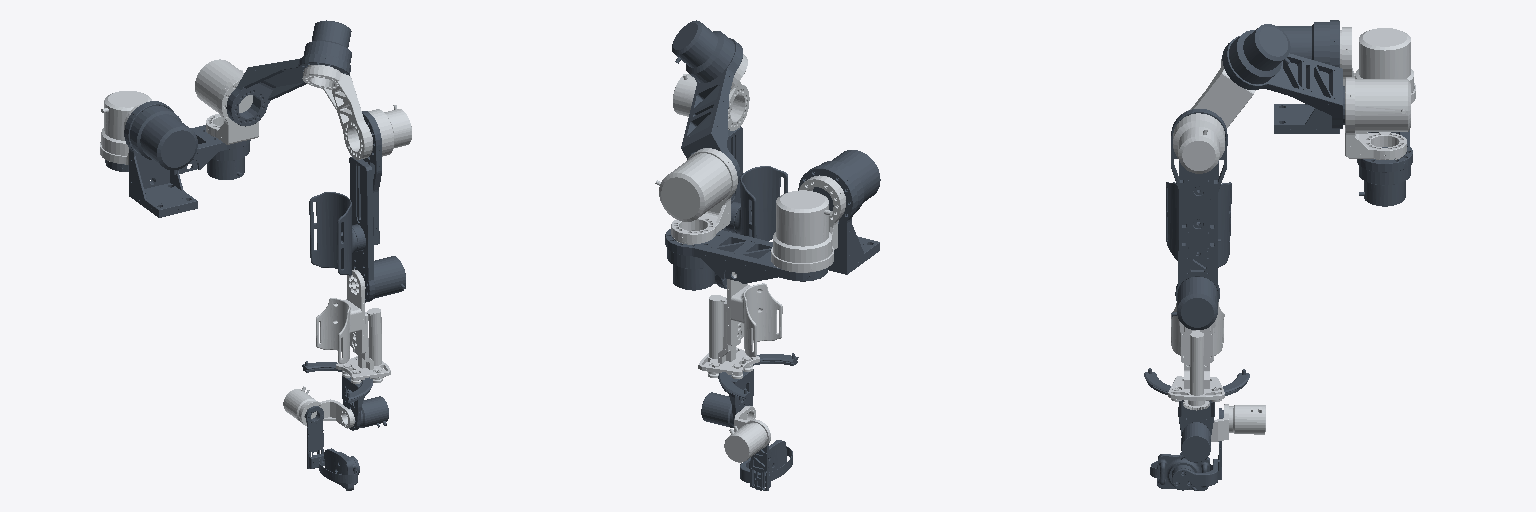
The robot description file, URDF, robot "robot_urdf":
<?xml version="1.0" encoding="utf-8"?>
<robot name="robot_urdf">

  <!-- ===== 材质定义 ===== -->
  <material name="dark_graphite">
    <color rgba="0.36 0.40 0.45 1.0" />
  </material>

  <material name="light_mist">
    <color rgba="0.82 0.84 0.86 1.0" />
  </material>

  <!-- ===== world ===== -->
  <link name="world" />

  <joint name="world_to_base_link" type="fixed">
    <parent link="world" />
    <child link="base_link" />
    <origin xyz="0 0 0" rpy="1.5708 0 0" />
  </joint>

  <!-- ===== base ===== -->
  <link name="base_link">
    <inertial>
      <origin xyz="6.92226091852932E-06 -0.0238445782558473 0.0400185415811058" rpy="0 0 0" />
      <mass value="2.0518821290605" />
      <inertia
        ixx="0.0033819502523036"
        ixy="-6.94931922672838E-07"
        ixz="3.13273230530948E-07"
        iyy="0.0025562496259904"
        iyz="0.000421721476417986"
        izz="0.00278965644158957" />
    </inertial>
    <visual>
      <geometry>
        <mesh filename="package://robot_urdf/meshes/base_link.STL" />
      </geometry>
      <material name="dark_graphite" />
    </visual>
  </link>

  <!-- ===== link1 ===== -->
  <link name="link1">
    <inertial>
      <origin xyz="0.0269401262052741 5.38039642751335E-05 -0.0660125281859969" rpy="0 0 0" />
      <mass value="1.76165866952677" />
      <inertia
        ixx="0.0017501795271766"
        ixy="-7.55840336410742E-06"
        ixz="0.000198005777225722"
        iyy="0.0024051054884993"
        iyz="6.50219652096249E-06"
        izz="0.0022439897149415" />
    </inertial>
    <visual>
      <geometry>
        <mesh filename="package://robot_urdf/meshes/link1.STL" />
      </geometry>
      <material name="light_mist" />
    </visual>
  </link>

  <joint name="joint1" type="revolute">
    <parent link="base_link" />
    <child link="link1" />
    <origin xyz="0 0 0" rpy="0 0 -1.5708" />
    <axis xyz="0 0 1" />
    <limit lower="-3.1416" upper="3.1416" effort="50" velocity="2" />
  </joint>

  <!-- ===== link2 ===== -->
  <link name="link2">
    <inertial>
      <origin xyz="0.151634578312904 -8.90041965362631E-05 -0.0351657438755136" rpy="0 0 0" />
      <mass value="1.59468357316661" />
      <inertia
        ixx="0.00122748215988071"
        ixy="1.05445508231499E-05"
        ixz="2.42762234655553E-05"
        iyy="0.00318848384426838"
        iyz="-3.04528630023397E-07"
        izz="0.00343010818845142" />
    </inertial>
    <visual>
      <geometry>
        <mesh filename="package://robot_urdf/meshes/link2.STL" />
      </geometry>
      <material name="dark_graphite" />
    </visual>
  </link>

  <joint name="joint2" type="revolute">
    <parent link="link1" />
    <child link="link2" />
    <origin xyz="0.0715 0 -0.0735" rpy="-1.5708 0 1.5708" />
    <axis xyz="0 0 1" />
    <limit lower="-3.1416" upper="3.1416" effort="50" velocity="2" />
  </joint>

  <!-- ===== link3 ===== -->
  <link name="link3">
    <inertial>
      <origin xyz="0.012180710346166 -2.92520324832179E-06 -0.07075437532951" rpy="0 0 0" />
      <mass value="1.50899705647033" />
      <inertia
        ixx="0.00143711695344338"
        ixy="-1.67872696840416E-06"
        ixz="0.000133663210207573"
        iyy="0.00184234966696005"
        iyz="9.43531767749633E-07"
        izz="0.00163987162857285" />
    </inertial>
    <visual>
      <geometry>
        <mesh filename="package://robot_urdf/meshes/link3.STL" />
      </geometry>
      <material name="light_mist" />
    </visual>
  </link>

  <joint name="joint3" type="revolute">
    <parent link="link2" />
    <child link="link3" />
    <origin xyz="0.19 0 -0.01" rpy="-3.1416 0 -1.5708" />
    <axis xyz="0 0 1" />
    <limit lower="-3.1416" upper="3.1416" effort="50" velocity="2" />
  </joint>

  <!-- ===== link4 ===== -->
  <link name="link4">
    <inertial>
      <origin xyz="0.126329248953276 0.00012705226853052 -0.110942211504875" rpy="0 0 0" />
      <mass value="1.52002907684628" />
      <inertia
        ixx="0.00237136970226934"
        ixy="-1.07779733062195E-05"
        ixz="0.001105445795461"
        iyy="0.00336785465518477"
        iyz="1.35189780049483E-05"
        izz="0.00217739308420728" />
    </inertial>
    <visual>
      <geometry>
        <mesh filename="package://robot_urdf/meshes/link4.STL" />
      </geometry>
      <material name="dark_graphite" />
    </visual>
  </link>

  <joint name="joint4" type="revolute">
    <parent link="link3" />
    <child link="link4" />
    <origin xyz="0.0545 0 -0.08" rpy="1.5708 0.95993 -1.5708" />
    <axis xyz="0 0 1" />
    <limit lower="-3.1416" upper="3.1416" effort="50" velocity="2" />
  </joint>

  <!-- ===== link5 ===== -->
  <link name="link5">
    <inertial>
      <origin xyz="0.103543803753986 0.00128110258418068 0.0700286344319139" rpy="0 0 0" />
      <mass value="1.33531733905559" />
      <inertia
        ixx="0.00132943314339522"
        ixy="-5.79676814963843E-06"
        ixz="-0.000370522818090566"
        iyy="0.00173625912381175"
        iyz="-5.32345339616087E-06"
        izz="0.00133982685184081" />
    </inertial>
    <visual>
      <geometry>
        <mesh filename="package://robot_urdf/meshes/link5.STL" />
      </geometry>
      <material name="light_mist" />
    </visual>
  </link>

  <joint name="joint5" type="revolute">
    <parent link="link4" />
    <child link="link5" />
    <origin xyz="0.12776 0 -0.15315" rpy="-2.1198 0.29022 1.3975" />
    <axis xyz="0 0 -1" />
    <limit lower="-3.1416" upper="3.1416" effort="50" velocity="2" />
  </joint>

  <!-- ===== link6 ===== -->
  <link name="link6">
    <inertial>
      <origin xyz="0.205479054239901 4.65480725229672E-05 0.0110413985610982" rpy="0 0 0" />
      <mass value="1.57403690632572" />
      <inertia
        ixx="0.000916731067277579"
        ixy="2.43668656587855E-06"
        ixz="2.17360750661418E-06"
        iyy="0.00339817530099989"
        iyz="2.76707235474586E-06"
        izz="0.00357156733612234" />
    </inertial>
    <visual>
      <geometry>
        <mesh filename="package://robot_urdf/meshes/link6.STL" />
      </geometry>
      <material name="dark_graphite" />
    </visual>
  </link>

  <joint name="joint6" type="revolute">
    <parent link="link5" />
    <child link="link6" />
    <origin xyz="0.092667 0.0011397 0.094019" rpy="-2.3595 -0.78866 -0.93839" />
    <axis xyz="0 0 -1" />
    <limit lower="-3.1416" upper="3.1416" effort="50" velocity="2" />
  </joint>

  <!-- ===== link7 ===== -->
  <link name="link7">
    <inertial>
      <origin xyz="0.100709801211644 -5.75713818709578E-06 0.000884917898414883" rpy="0 0 0" />
      <mass value="0.53341444148306" />
      <inertia
        ixx="0.000158952234576008"
        ixy="-4.35834625839253E-07"
        ixz="8.40887140693924E-06"
        iyy="0.000531608219607252"
        iyz="-3.44191354452961E-08"
        izz="0.000595315890414363" />
    </inertial>
    <visual>
      <geometry>
        <mesh filename="package://robot_urdf/meshes/link7.STL" />
      </geometry>
      <material name="light_mist" />
    </visual>
  </link>

  <joint name="joint7" type="revolute">
    <parent link="link6" />
    <child link="link7" />
    <origin xyz="0.269 0 -0.008" />
    <axis xyz="0 0 -1" />
    <limit lower="-3.1416" upper="3.1416" effort="50" velocity="2" />
  </joint>

  <!-- ===== link8 ===== -->
  <link name="link8">
    <inertial>
      <origin xyz="-8.26169655895048E-05 -0.0738457907499502 -0.0441586901809172" rpy="0 0 0" />
      <mass value="0.388714250535921" />
      <inertia
        ixx="0.000176419885250118"
        ixy="-4.65851067629489E-08"
        ixz="-4.2231396746915E-07"
        iyy="0.000215021015802394"
        iyz="5.56073948060143E-06"
        izz="0.000228930591651484" />
    </inertial>
    <visual>
      <geometry>
        <mesh filename="package://robot_urdf/meshes/link8.STL" />
      </geometry>
      <material name="dark_graphite" />
    </visual>
  </link>

  <joint name="joint8" type="fixed">
    <parent link="link7" />
    <child link="link8" />
    <origin xyz="0.18565 0 -0.075" rpy="-1.5708 0 1.5708" />
  </joint>

  <!-- ===== link9 ===== -->
  <link name="link9">
    <inertial>
      <origin xyz="-0.0678872536892172 -2.0890530060963E-05 -0.0455856247697984" rpy="0 0 0" />
      <mass value="0.340116837655435" />
      <inertia
        ixx="9.62939684252204E-05"
        ixy="-2.05528119360623E-07"
        ixz="-1.27308889592139E-05"
        iyy="0.000154852957770118"
        iyz="2.93147942425605E-07"
        izz="0.000142496724224792" />
    </inertial>
    <visual>
      <geometry>
        <mesh filename="package://robot_urdf/meshes/link9.STL" />
      </geometry>
      <material name="light_mist" />
    </visual>
  </link>

  <joint name="joint9" type="fixed">
    <parent link="link8" />
    <child link="link9" />
    <origin xyz="0 -0.0508 -0.058" rpy="-1.5708 0 -3.1416" />
  </joint>

  <!-- ===== link10 ===== -->
  <link name="link10">
    <inertial>
      <origin xyz="0.0667843397740763 -0.0147053065827579 -0.0421901822353724" rpy="0 0 0" />
      <mass value="0.118059114867053" />
      <inertia
        ixx="5.35434154922427E-05"
        ixy="-5.30729107500254E-07"
        ixz="1.13706256710051E-07"
        iyy="8.84708229090321E-05"
        iyz="-5.37566435791395E-06"
        izz="5.80437994317926E-05" />
    </inertial>
    <visual>
      <geometry>
        <mesh filename="package://robot_urdf/meshes/link10.STL" />
      </geometry>
      <material name="dark_graphite" />
    </visual>
  </link>

  <joint name="joint10" type="fixed">
    <parent link="link9" />
    <child link="link10" />
    <origin xyz="-0.04495 0 -0.051" rpy="-1.5708 -0.01414 1.5708" />
  </joint>

  <!-- ===== Force Torque Sensor ===== -->
  <link name="ft_sensor_frame">
    <visual>
      <geometry>
        <sphere radius="0.01" />
      </geometry>
      <material name="sensor_red">
        <color rgba="1 0 0 1" />
      </material>
    </visual>
  </link>

  <joint name="ft_sensor_joint" type="fixed">
    <parent link="link6" />
    <child link="ft_sensor_frame" />
    <origin xyz="0.18416 0 -0.01731" rpy="-3.1351 0 3.14159" />
  </joint>


  <link name="ft_sensor_frame_2">
    <visual>
      <geometry>
        <sphere radius="0.01" />
      </geometry>
      <material name="sensor_red">
        <color rgba="1 0 0 1" />
      </material>
    </visual>
  </link>

  <joint name="ft_sensor_joint_2" type="fixed">
    <parent link="link10" />
    <child link="ft_sensor_frame_2" />
    <origin xyz="0.082 -0.0287 -0.06447 " rpy="1.5708 0 3.14159" />
  </joint>

</robot>

--- What the picture shows (computed from the rendered views, not written in the file) ---
The picture shows the robot from 3 angles, left to right: view 1: azimuth 30°, elevation 25°; view 2: azimuth 150°, elevation 25°; view 3: azimuth 270°, elevation 25°; orthographic projection.
Robot: robot_urdf — 14 links, 13 joints (7 revolute, 6 fixed); root link world; default pose: all joints at 0.
Links seen in each view (by area): view 1: link6, base_link, link4, link7, link5, link3, link2, link10, link1, link8, link9; view 2: link4, link3, link7, link1, link2, base_link, link6, link8, link5, link10, link9; view 3: link6, link4, link3, link5, link7, base_link, link1, link8, link2, link10, link9.
Link boxes in pixels (x1,y1,x2,y2): link6: [309, 111, 405, 302]; base_link: [124, 101, 197, 217]; link4: [226, 20, 351, 126]; link7: [316, 269, 390, 383]; link5: [302, 65, 411, 159]; link3: [195, 59, 258, 144]; link2: [105, 125, 250, 179]; link10: [305, 406, 359, 490]; link1: [100, 91, 151, 164]; link8: [302, 361, 388, 430]; link9: [283, 386, 354, 428]; link4: [672, 20, 742, 182]; link3: [655, 148, 737, 244]; link7: [698, 272, 782, 378]; link1: [771, 175, 845, 272]; link2: [665, 229, 827, 290]; base_link: [798, 150, 880, 274]; link6: [714, 126, 787, 288]; link8: [701, 353, 798, 427]; link5: [673, 54, 749, 130]; link10: [740, 440, 792, 490]; link9: [724, 406, 770, 462]; link6: [1166, 109, 1231, 329]; link4: [1222, 24, 1344, 128]; link3: [1345, 77, 1410, 159]; link5: [1173, 59, 1255, 173]; link7: [1168, 302, 1224, 410]; base_link: [1274, 20, 1339, 133]; link1: [1340, 27, 1415, 103]; link8: [1144, 368, 1249, 462]; link2: [1357, 130, 1412, 206]; link10: [1150, 408, 1223, 490]; link9: [1211, 404, 1265, 441].
Size in the robot's own frame: 0.4248 by 0.4149 by 0.8026 metres.
11 mesh visuals loaded from 11 distinct referenced files (11 binary STL).
